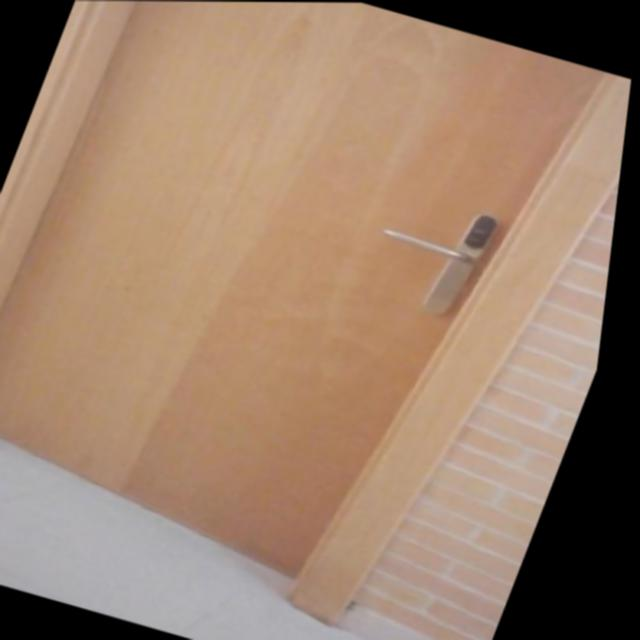door_handle: (375, 222, 492, 270)
